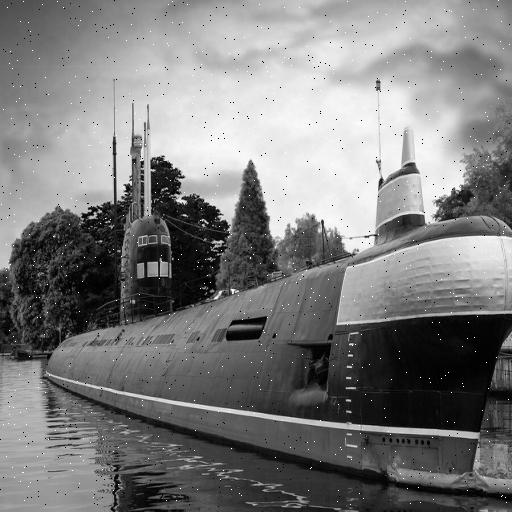submarine: (38, 73, 512, 496)
